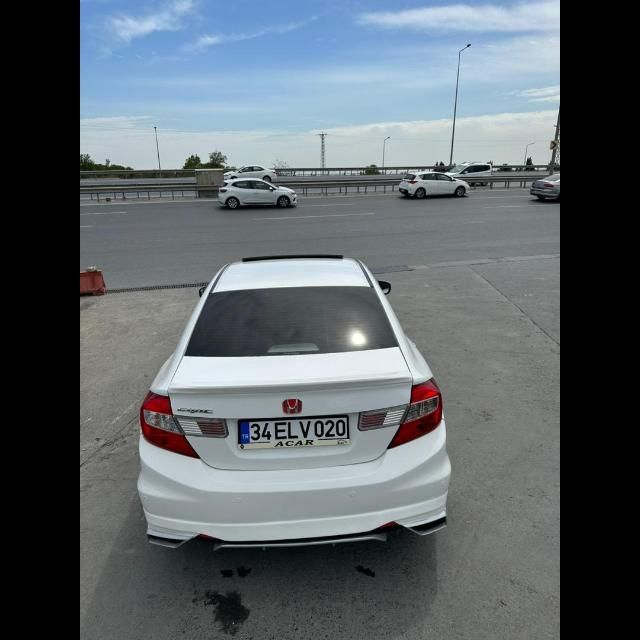Plaka: (240, 416, 348, 444)
